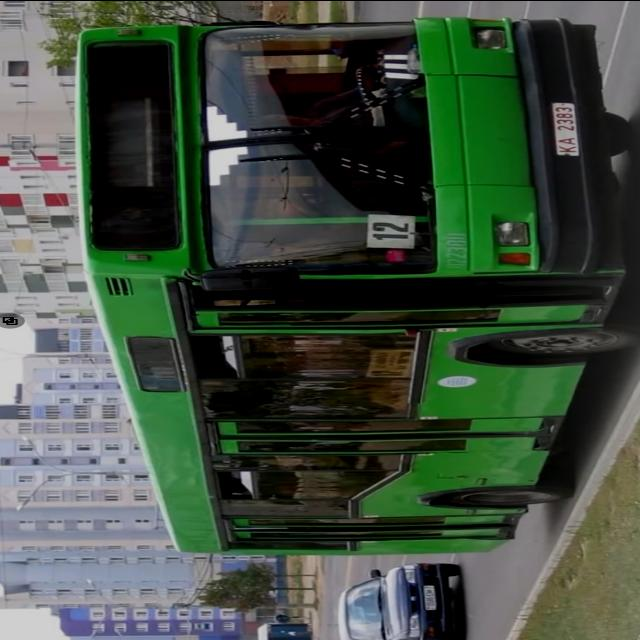bus: (73, 1, 640, 559)
